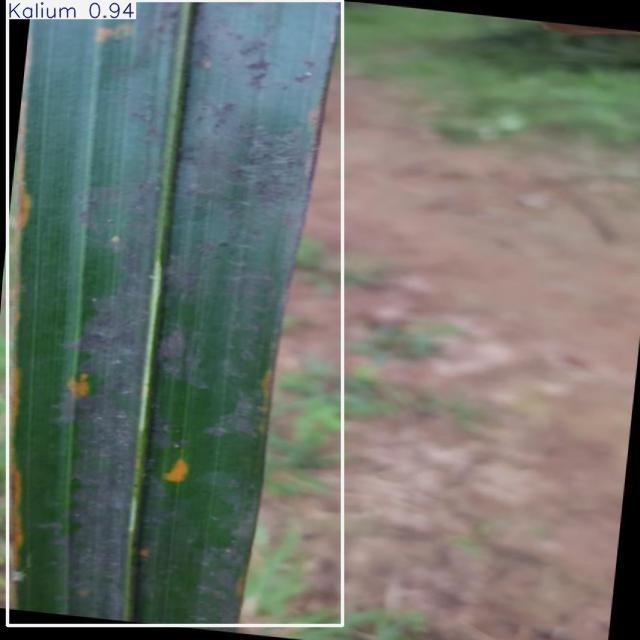Kalium: (7, 0, 342, 626)
